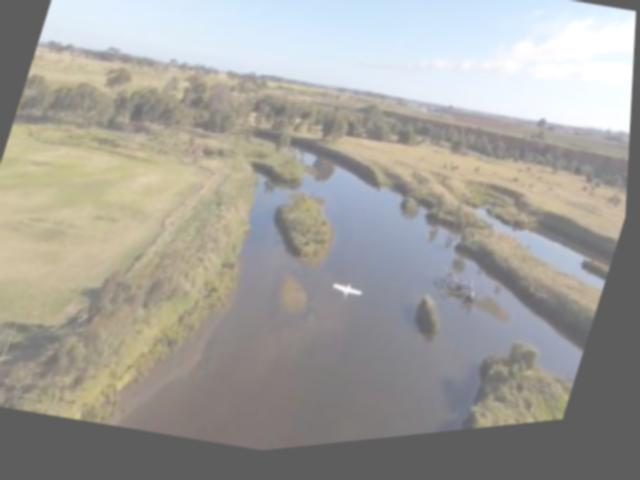uav: (332, 281, 370, 315)
